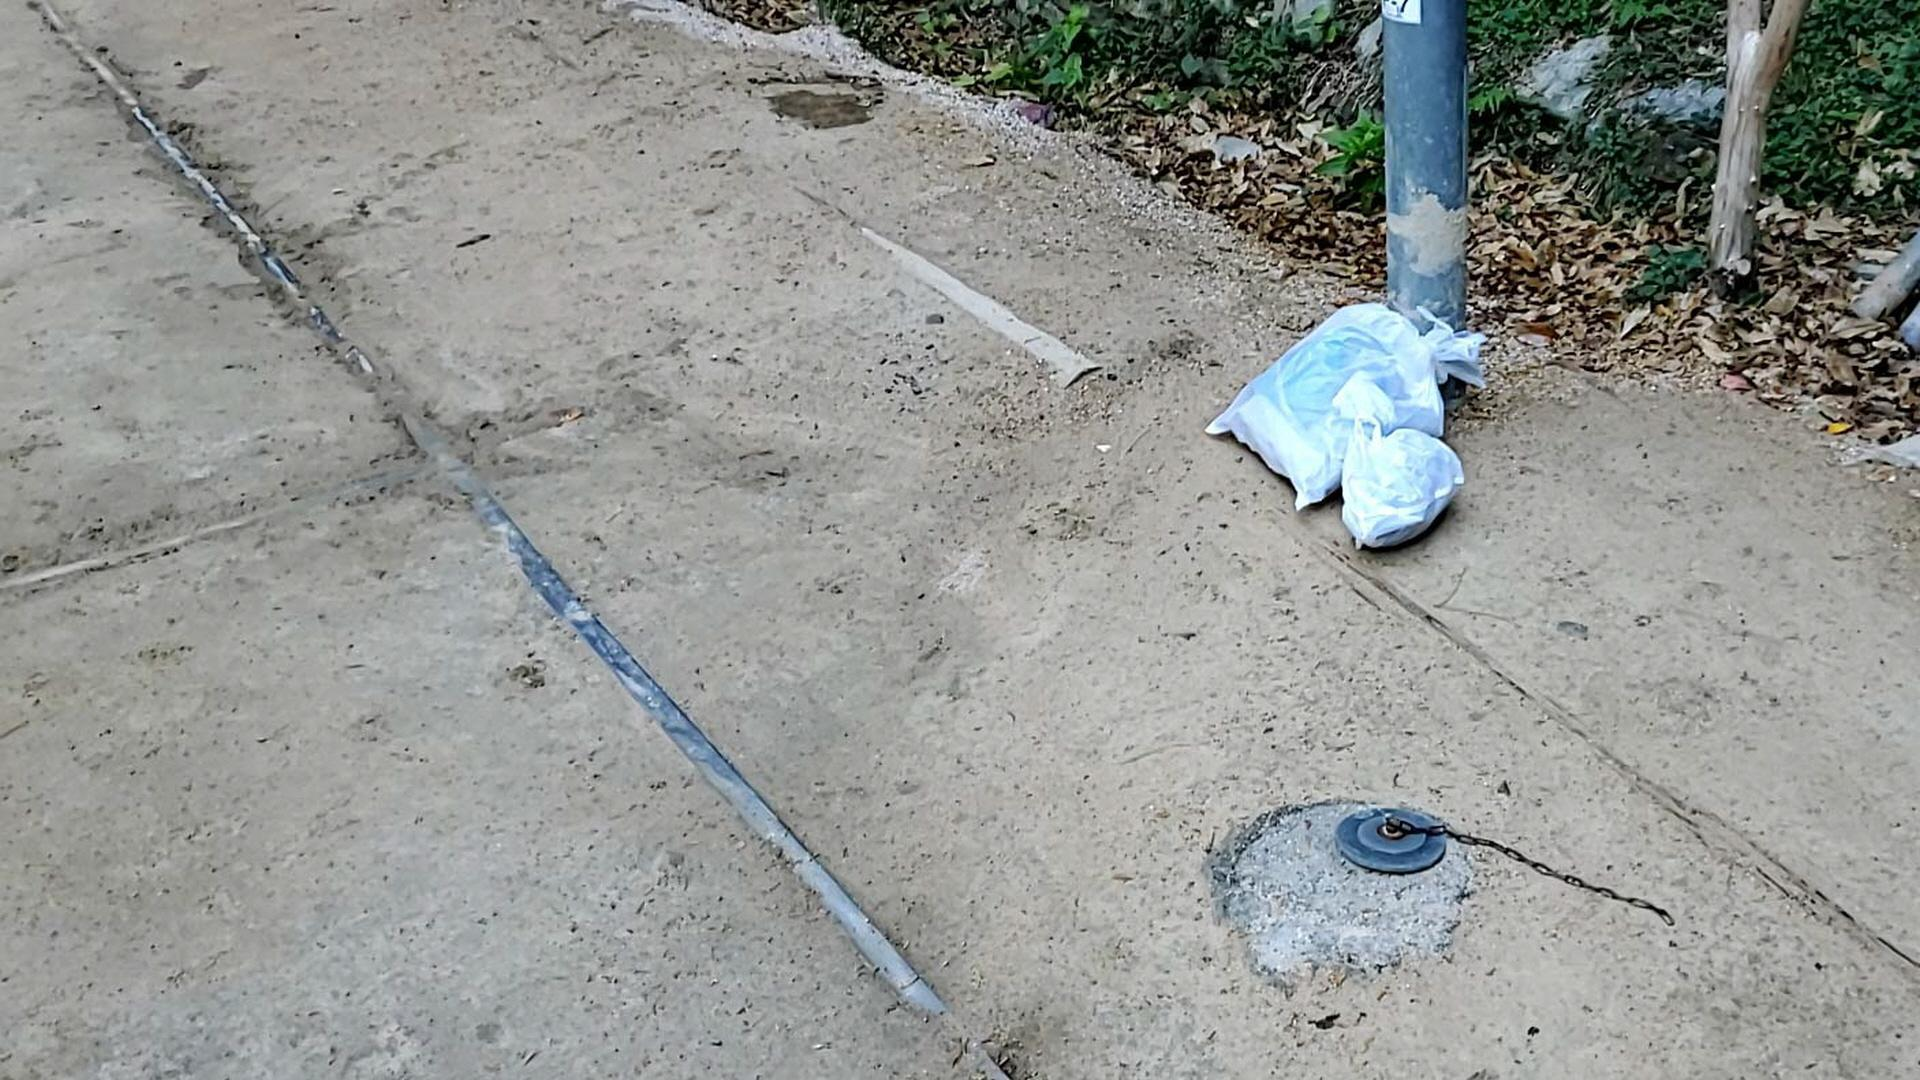white_bag: (1197, 287, 1494, 517), (1324, 407, 1466, 553)
